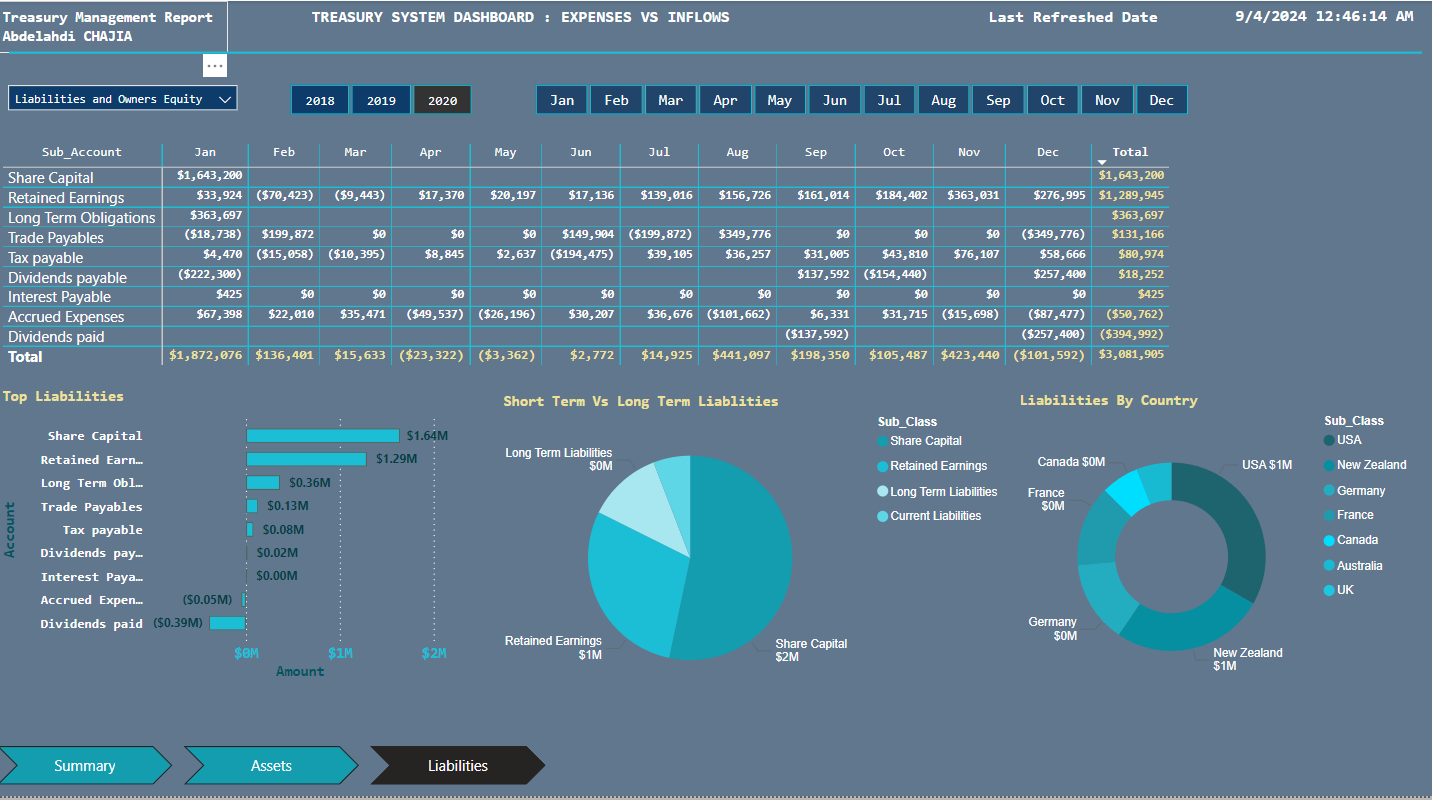

The page's visual inventory and layout, read from the dashboard file:
{"tool":"powerbi","page":{"name":"Liabilities","canvas":[1300,720],"ordinal":2},"visuals":[{"type":"textbox","box":[279.6,0,567,33.6],"z":0},{"type":"textbox","box":[0,0,209.4,47.4],"z":1000},{"type":"card","fields":{"Values":["Min(Date & Time.Date & Time)"]},"box":[1103.9,0,196.6,24.1],"z":2000},{"type":"textbox","box":[893,0,185.7,33.6],"z":3000},{"type":"pivotTable","fields":{"Values":["GL.Total_Amount"],"Columns":["GL.Month"],"Rows":["GL.Sub_Account"]},"box":[0,124.5,1085.6,214.4],"z":4000},{"type":"slicer","fields":{"Values":["GL.Classe"]},"box":[0,66.5,227.9,44.3],"z":5000},{"type":"slicer","fields":{"Values":["Calendar.Year"]},"box":[240,69.1,214.4,41.5],"z":6000},{"type":"slicer","fields":{"Values":["GL.Month"]},"box":[462.3,69.1,641.1,41.5],"z":7000},{"type":"pieChart","title":"Short Term Vs Long Term Liablities","fields":{"Category":["GL.Sub_Classe_2"],"Y":["GL.Total_Amount"]},"box":[454,354.7,467.3,283.7],"z":8000},{"type":"clusteredBarChart","title":"Top Liabilities","fields":{"Category":["GL.Sub_Acount"],"Y":["GL.Total_Amount"]},"box":[0,350.7,432.7,268.7],"z":9000},{"type":"shape","box":[10.9,41,1280,12.1],"z":10000},{"type":"donutChart","title":"Liabilities By Country","fields":{"Category":["Territory.Country"],"Y":["GL.Total_Amount"]},"box":[921.7,354.6,369.5,283.5],"z":11000},{"type":"pageNavigator","box":[0,674.7,497.9,35.6],"z":12000}]}

Visuals, with their boxes in screenshot pixels (x1, y1, x2, y2), scaled from the page's 1300x720 canvas onto the 1432x800 screenshot:
textbox: crop(308, 0, 933, 37)
textbox: crop(0, 0, 231, 53)
card - Min(Date & Time.Date & Time): crop(1216, 0, 1431, 27)
textbox: crop(984, 0, 1188, 37)
pivotTable - GL.Total_Amount x GL.Month: crop(0, 138, 1196, 377)
slicer - GL.Classe: crop(0, 74, 251, 123)
slicer - Calendar.Year: crop(264, 77, 501, 123)
slicer - GL.Month: crop(509, 77, 1215, 123)
"Short Term Vs Long Term Liablities" pieChart: crop(500, 394, 1015, 709)
"Top Liabilities" clusteredBarChart: crop(0, 390, 477, 688)
shape: crop(12, 46, 1422, 59)
"Liabilities By Country" donutChart: crop(1015, 394, 1422, 709)
pageNavigator: crop(0, 750, 548, 789)
